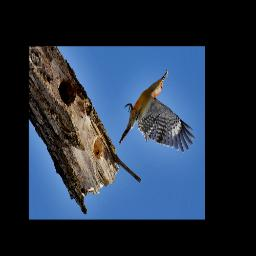Woodpecker: (118, 68, 196, 154)
